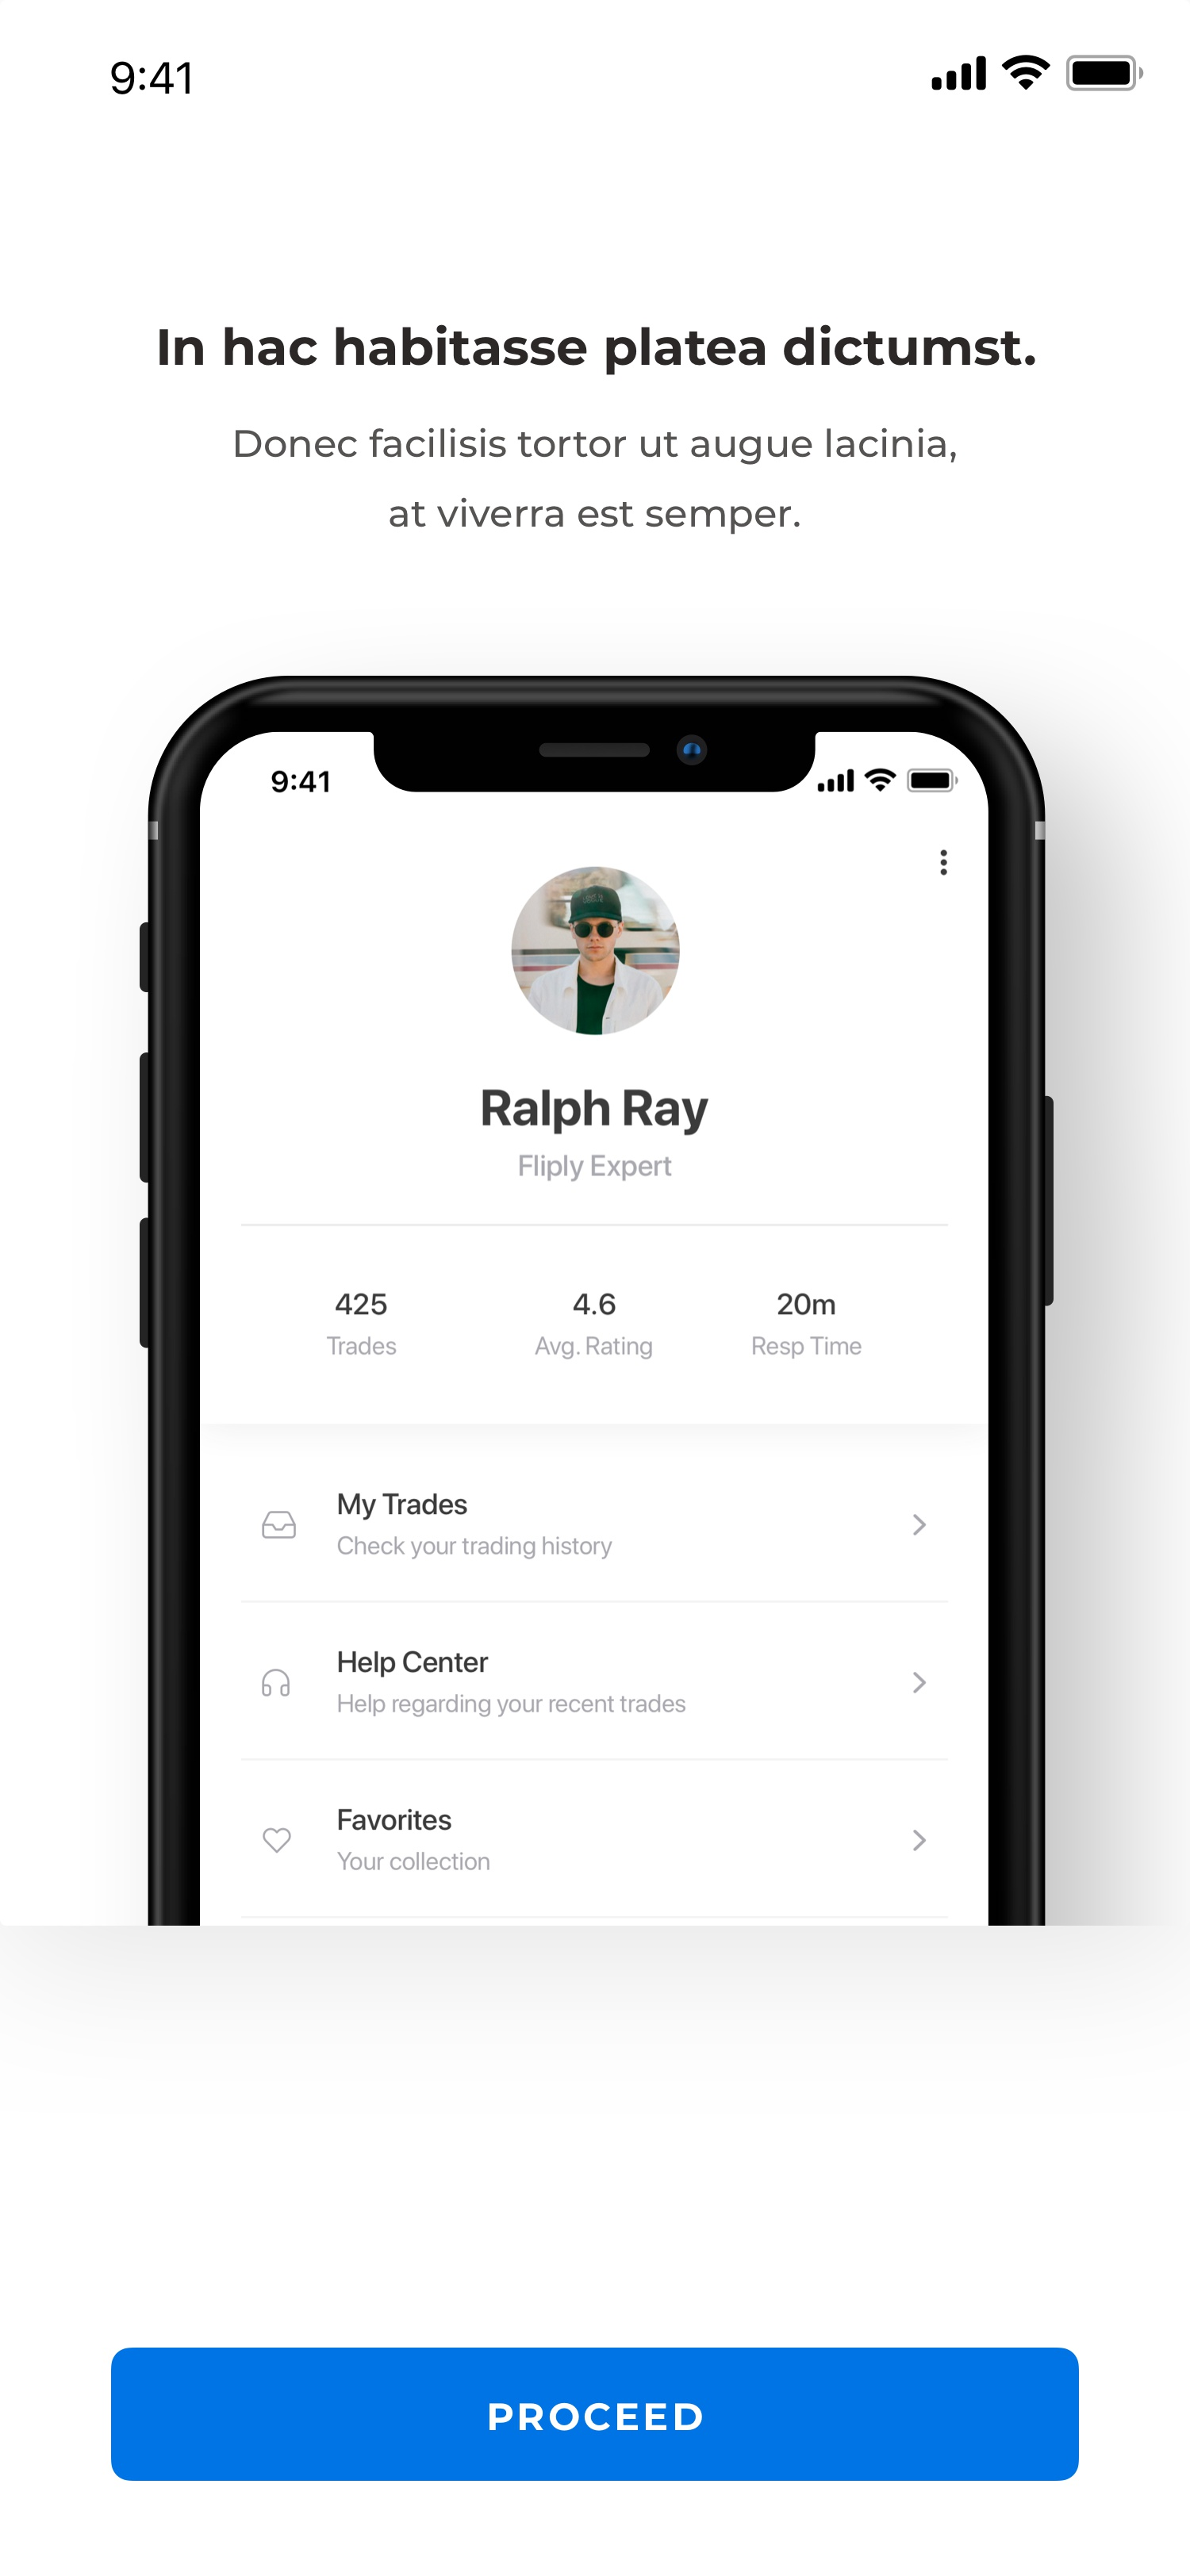Image: (138, 675, 1055, 1925)
Text: (235, 427, 957, 536), (159, 324, 1035, 376)
TextButton: (112, 2346, 1080, 2481)
UpperTaskBar: (112, 53, 1144, 97)
